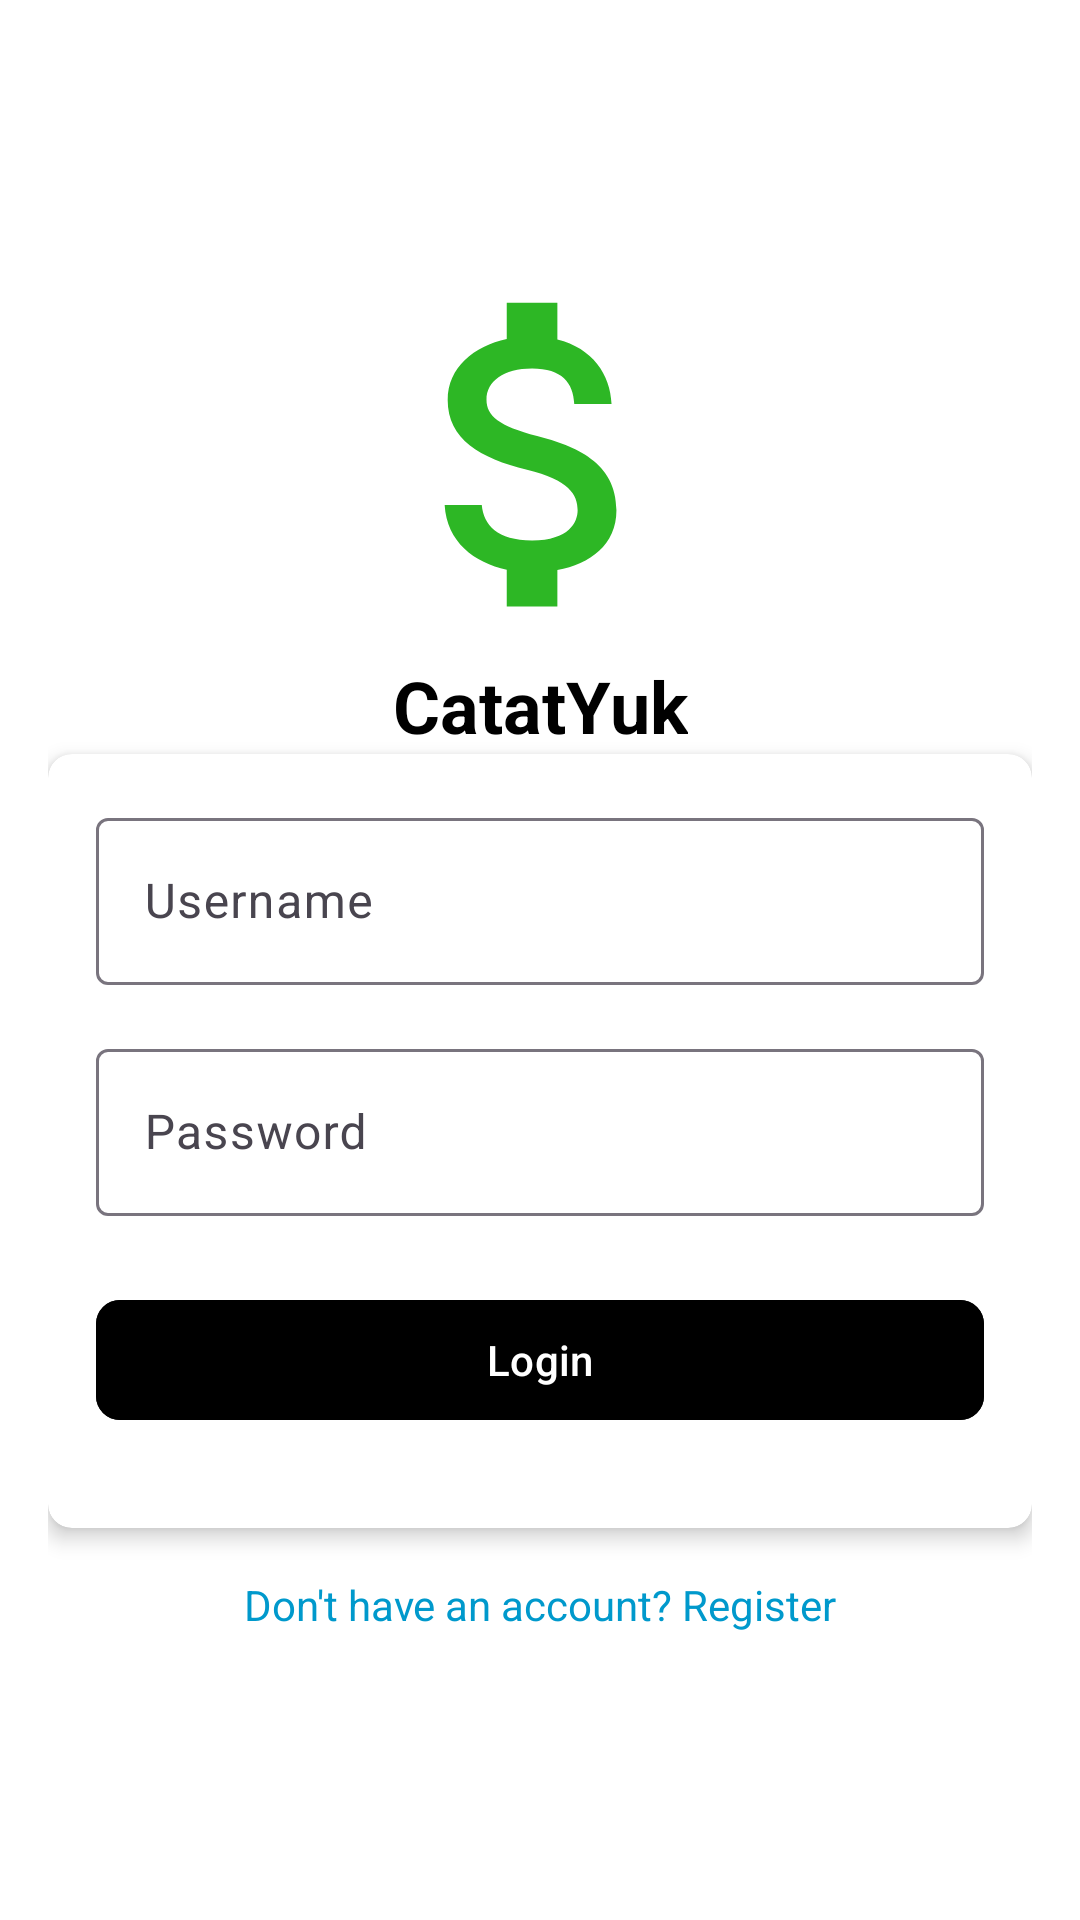

Where icons sit on this 1080×1920 app screen, as {"x1": x1, "y1": y1, "x2": x2, "y2": y2}:
attach money: {"x1": 444, "y1": 302, "x2": 617, "y2": 607}
